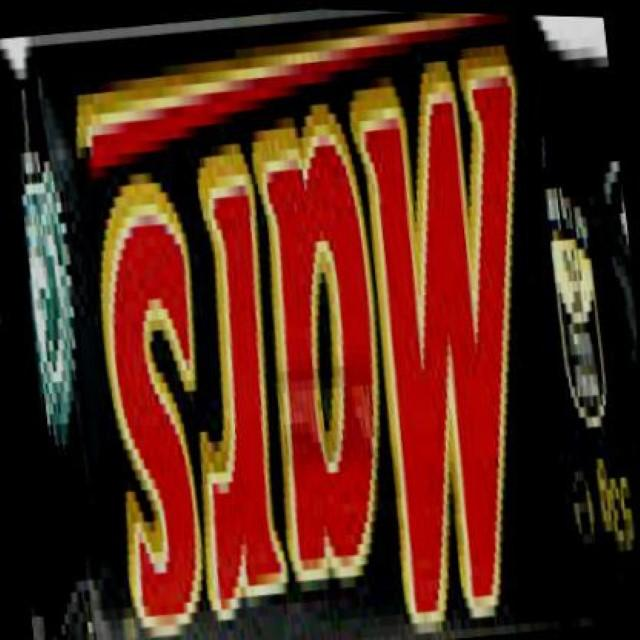mars_chocolate: (36, 38, 584, 640)
